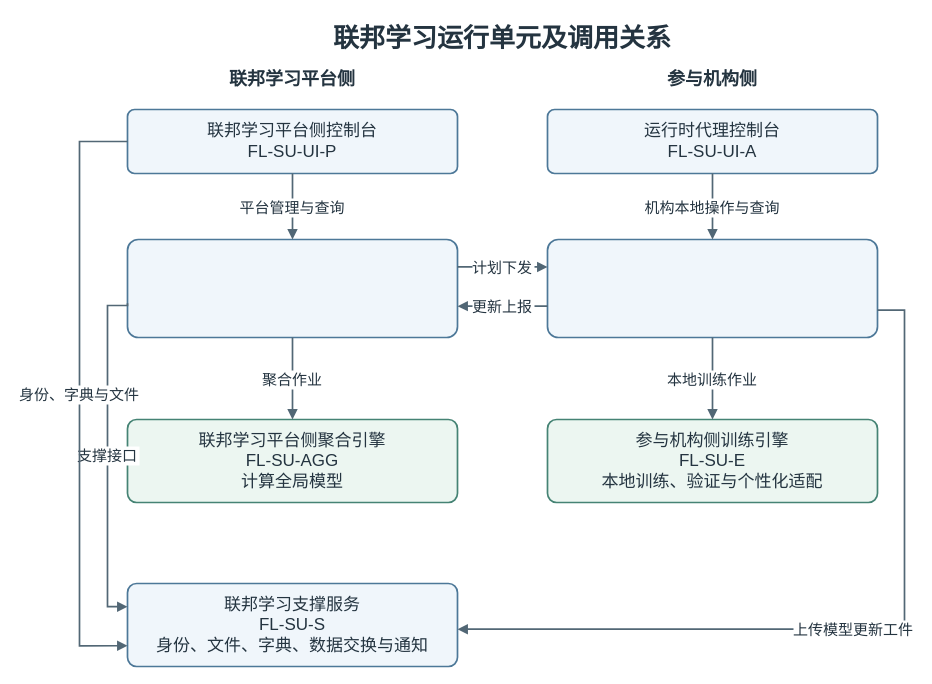
This 932x684 diagram has some shape labels left out. Here are the shapes that lost their labels. From the top down, the centre of each, then its label:
At point 292,288: "联邦学习平台服务 FL-SU-P 训练编排、更新验收、模型登记".
At point 712,288: "运行时代理 FL-SU-A 数据集校验、执行计划、结果上报".
